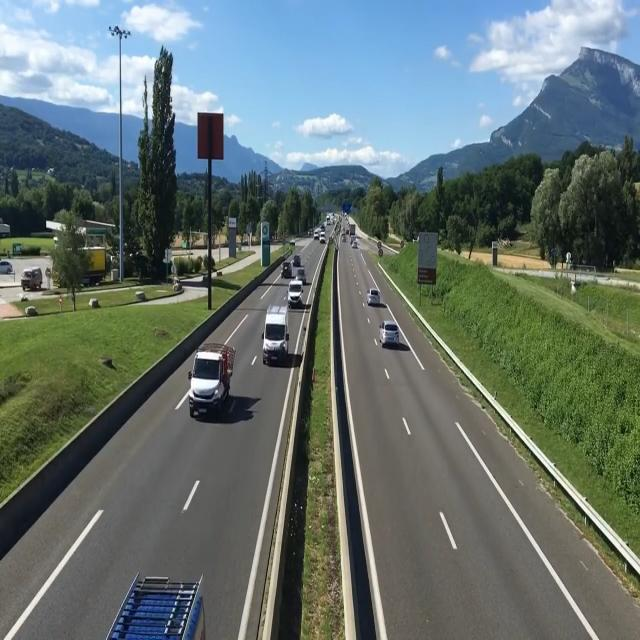car: (71, 558, 217, 640), (183, 336, 236, 418), (261, 305, 289, 369), (382, 318, 405, 352), (286, 276, 304, 311), (367, 286, 382, 308)
